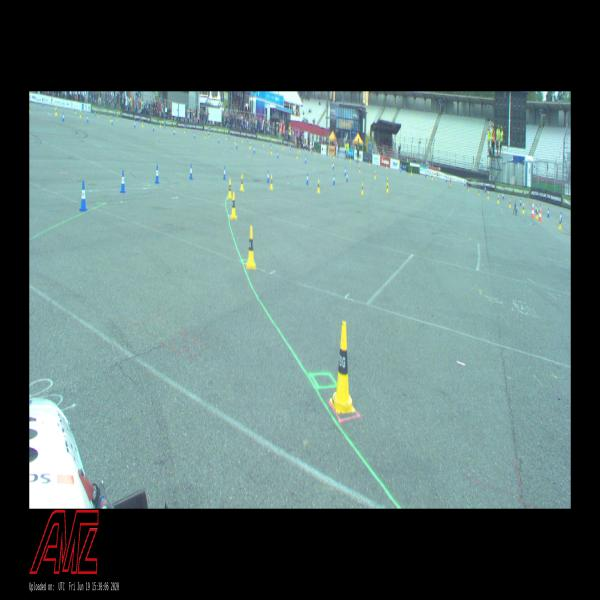blue_cone: (80, 181, 87, 211), (120, 170, 125, 192), (155, 165, 159, 183), (190, 164, 193, 180), (223, 166, 226, 180), (267, 171, 269, 182), (333, 174, 335, 185), (306, 174, 308, 184), (560, 212, 562, 222), (548, 208, 550, 217), (346, 172, 348, 181), (253, 146, 255, 153), (218, 136, 220, 143), (502, 192, 504, 199), (134, 121, 136, 128), (535, 205, 537, 212), (194, 132, 196, 138), (236, 142, 238, 148), (74, 106, 76, 112), (484, 186, 486, 192), (164, 123, 166, 128), (464, 181, 466, 186), (345, 168, 346, 176), (63, 112, 64, 120), (42, 102, 44, 106), (270, 142, 272, 146), (153, 124, 154, 131), (520, 198, 521, 205), (333, 162, 334, 169), (87, 115, 88, 121), (305, 157, 306, 163), (174, 129, 175, 135), (112, 118, 113, 124), (446, 177, 447, 182), (377, 162, 378, 167), (425, 173, 426, 178), (95, 111, 96, 115), (229, 134, 230, 138), (290, 145, 291, 149), (332, 153, 333, 157), (400, 168, 401, 172), (278, 150, 278, 158), (248, 137, 248, 141), (140, 118, 140, 122), (312, 149, 312, 153)
large_orange_cone: (531, 201, 535, 217), (538, 204, 542, 220)
yellow_cone: (330, 322, 354, 412), (246, 226, 256, 268), (231, 192, 236, 218), (228, 179, 232, 199), (240, 174, 244, 191), (270, 175, 273, 189), (317, 179, 320, 192), (361, 183, 364, 194), (559, 218, 561, 229), (536, 209, 538, 219), (509, 199, 511, 208), (487, 192, 489, 199), (374, 171, 376, 178), (296, 152, 298, 158), (478, 189, 480, 195), (142, 120, 144, 126), (387, 182, 388, 192), (184, 128, 186, 133), (110, 116, 112, 121), (523, 204, 524, 213), (387, 177, 388, 186), (29, 104, 30, 113), (498, 195, 499, 203), (250, 142, 251, 149), (205, 132, 206, 138), (80, 111, 81, 117), (235, 138, 236, 144), (359, 166, 360, 172), (271, 148, 272, 154), (56, 108, 57, 114), (315, 150, 316, 156), (226, 134, 227, 140), (332, 160, 333, 166), (370, 160, 371, 166), (411, 169, 412, 174), (242, 137, 243, 142), (209, 133, 210, 138), (263, 141, 264, 146), (299, 147, 300, 152), (333, 153, 334, 158), (350, 157, 351, 162), (75, 109, 76, 113), (99, 113, 100, 117), (117, 117, 118, 120), (432, 174, 432, 179), (468, 186, 468, 191), (283, 145, 283, 149), (161, 123, 161, 127), (387, 165, 387, 169), (450, 179, 450, 186)
